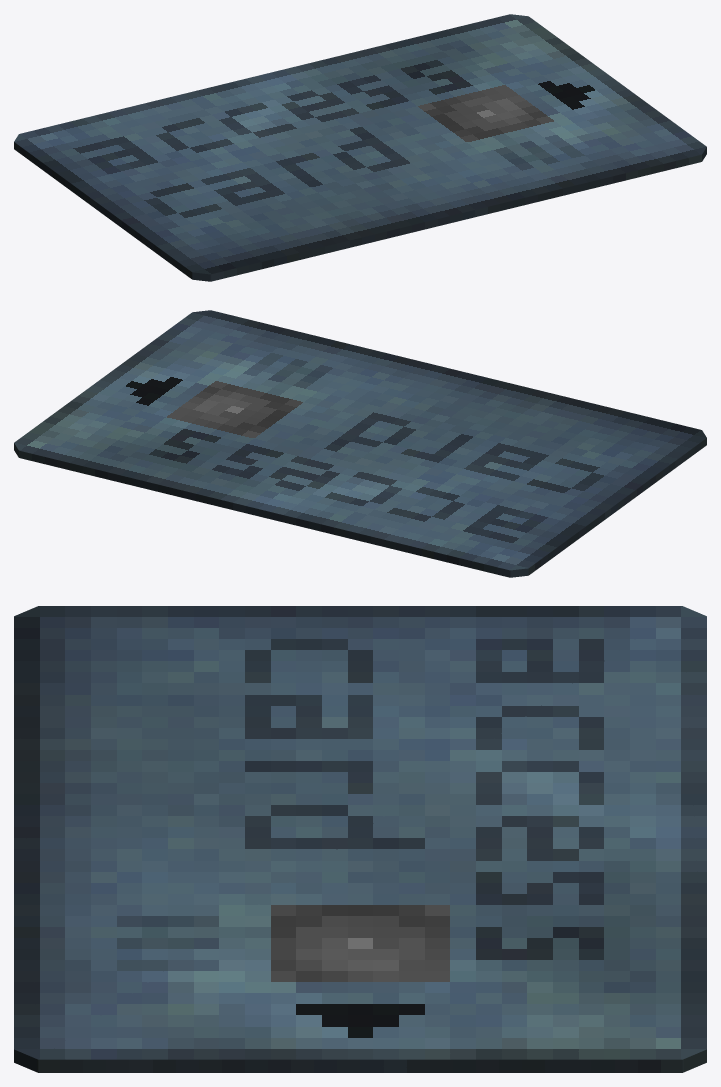
The model's file is keycard_1_authorization_level_3.glb.
The picture shows the model from 3 angles, top to bottom: view 1: azimuth 30°, elevation 25°; view 2: azimuth 150°, elevation 25°; view 3: azimuth 270°, elevation 25°; orthographic projection. The views are drawn at different scales.
Parts seen in each view (by area): view 1: keycard_1_authorization_level_3; view 2: keycard_1_authorization_level_3; view 3: keycard_1_authorization_level_3.
Boxes of the visible parts, x1,y1,x2,y2 form: keycard_1_authorization_level_3: (14,14,706,281); keycard_1_authorization_level_3: (14,310,706,577); keycard_1_authorization_level_3: (14,606,706,1072).
Bounding box in the file's own units: 0.132 × 0.0018 × 0.0852.
Materials: 1 (1 with a texture image).
